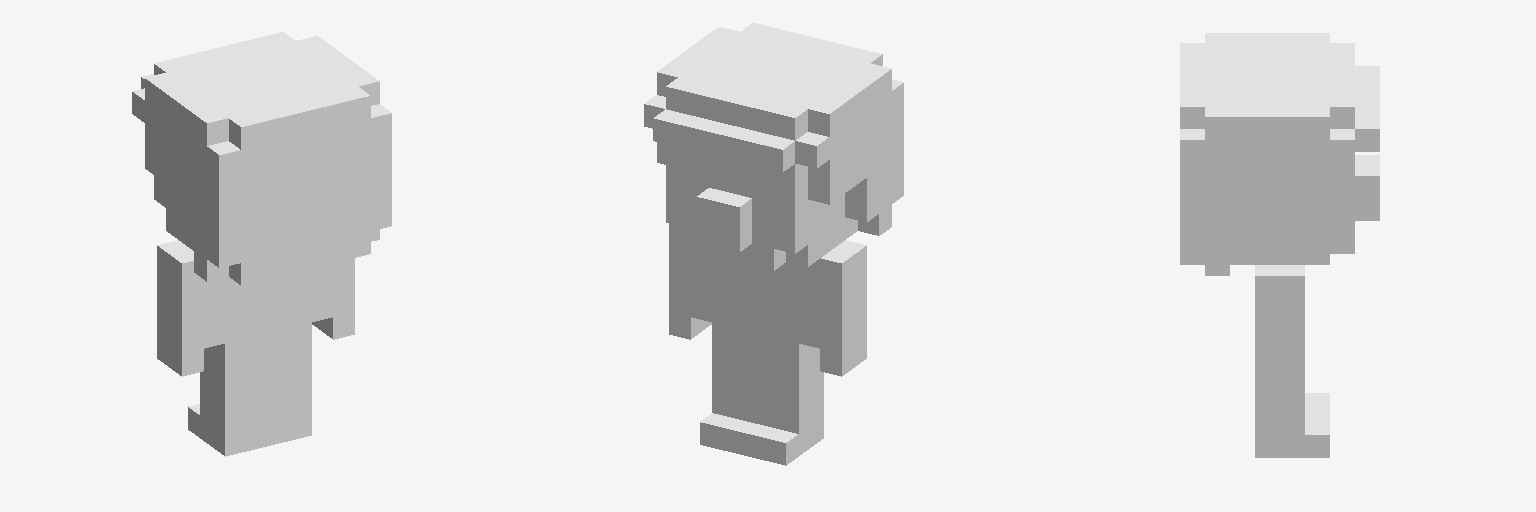
File: character.obj
3 renders of one model, left to right at view 1: azimuth 30°, elevation 25°; view 2: azimuth 150°, elevation 25°; view 3: azimuth 270°, elevation 25°, orthographic.
Visible parts, largest first — view 1: character; view 2: character; view 3: character.
Boxes of the visible parts, x1,y1,x2,y2 form: character: [132, 32, 391, 456]; character: [644, 23, 903, 465]; character: [1180, 33, 1379, 457].
Size of the model in its own units: 8 by 16 by 8.